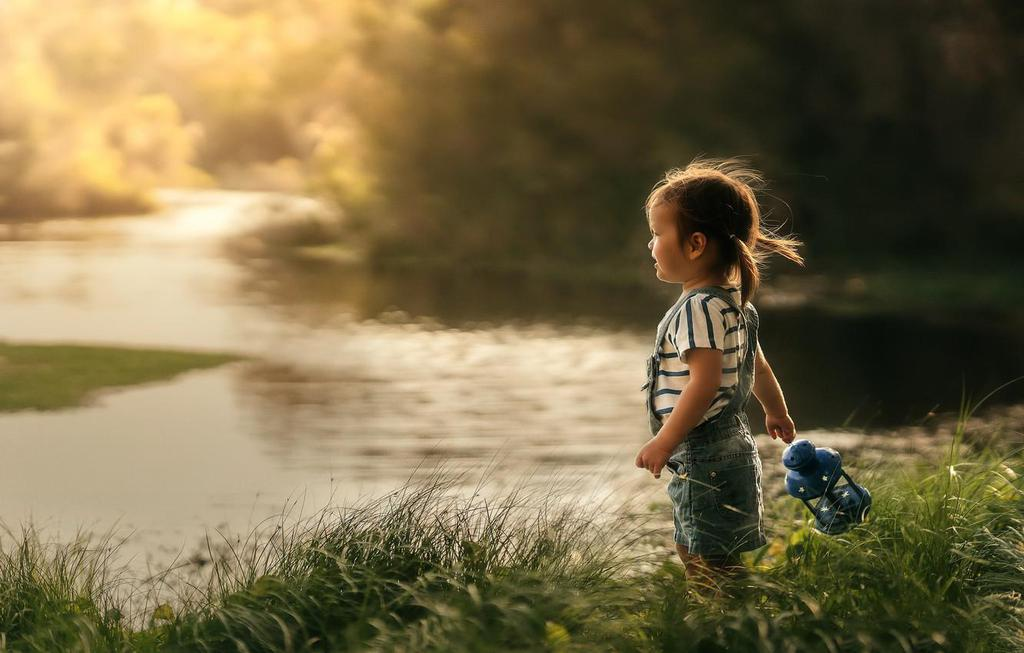child: (588, 149, 796, 606)
